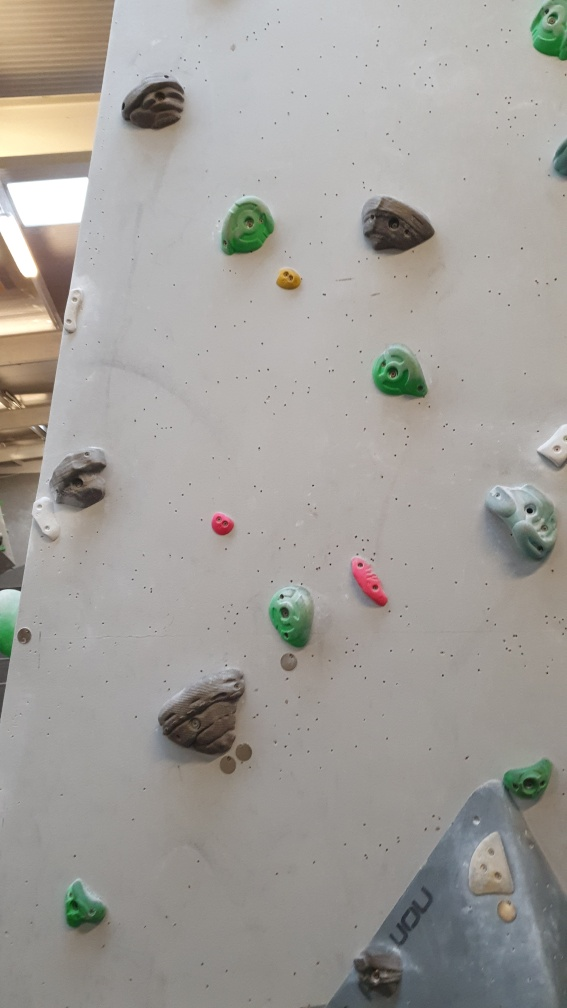Crimp: (350, 549, 390, 611), (65, 289, 89, 335)
Hand Start: (490, 897, 521, 926), (276, 651, 299, 673), (233, 740, 253, 765), (215, 753, 235, 774), (17, 627, 32, 645)
Jug: (152, 664, 245, 761), (483, 477, 560, 564), (361, 191, 436, 261), (119, 71, 187, 136), (48, 447, 114, 510), (220, 196, 279, 259), (374, 346, 430, 403), (270, 585, 314, 652), (503, 757, 555, 799)
Pinch: (202, 510, 237, 538), (276, 263, 306, 293)
